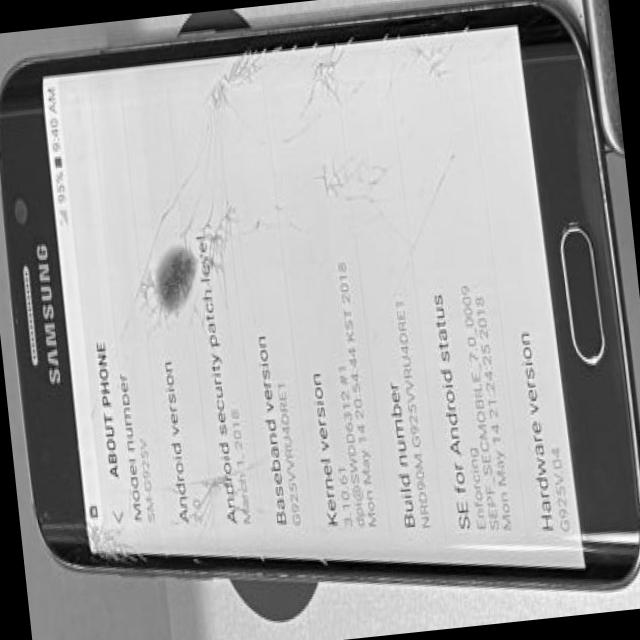screen crack: (281, 22, 494, 226), (78, 442, 254, 566), (189, 22, 281, 118)
